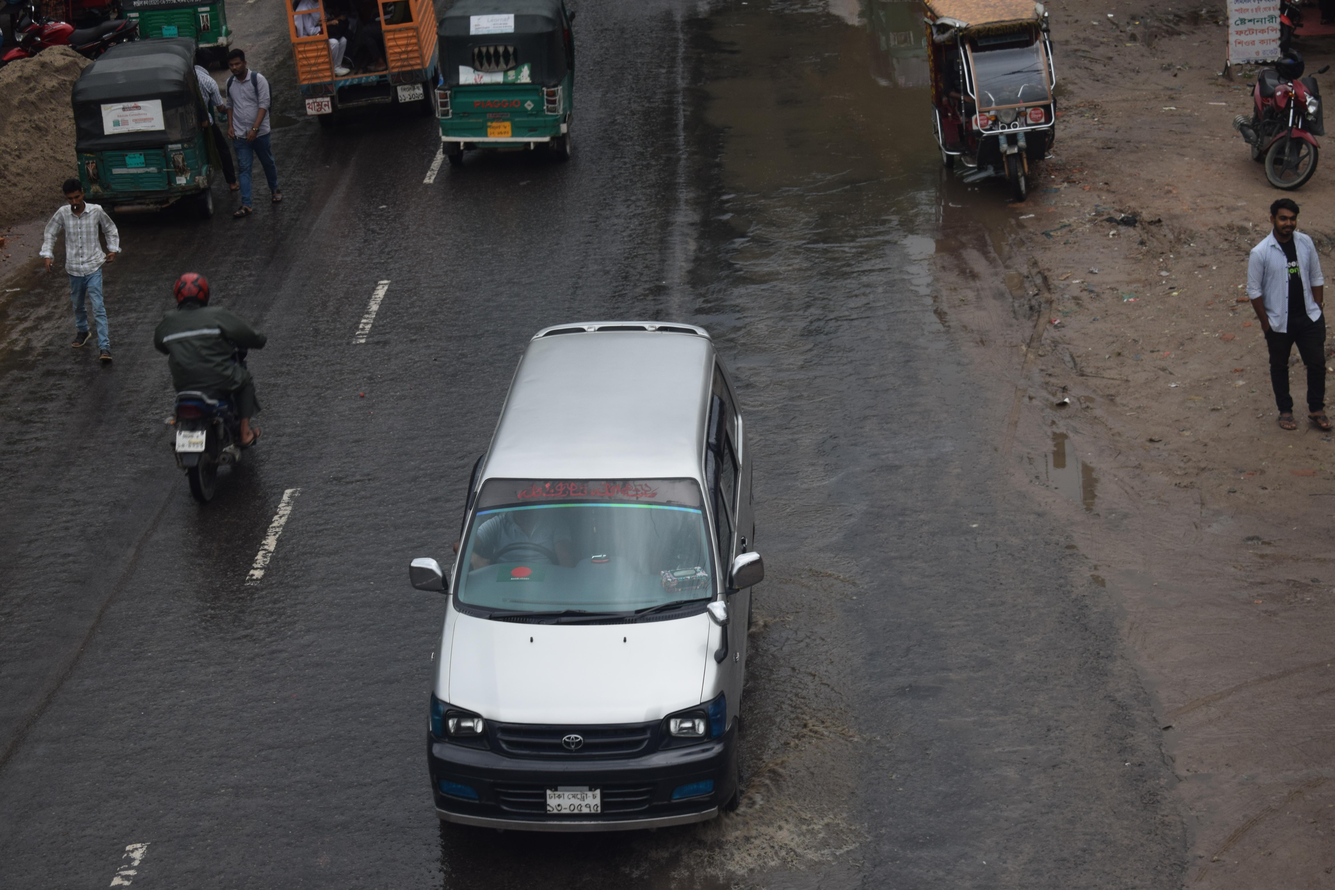Bike: (120, 243, 293, 540), (1210, 40, 1335, 234)
Car: (335, 279, 819, 870), (868, 0, 1110, 232)
